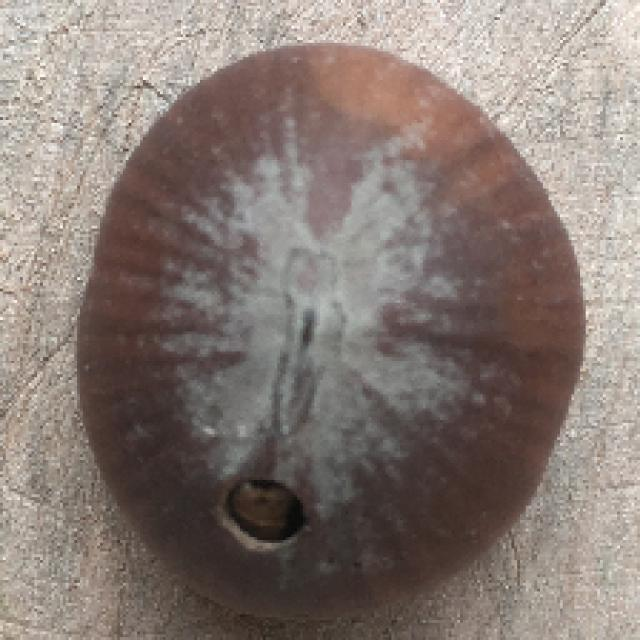damagedHazelnut: (76, 37, 584, 628)
